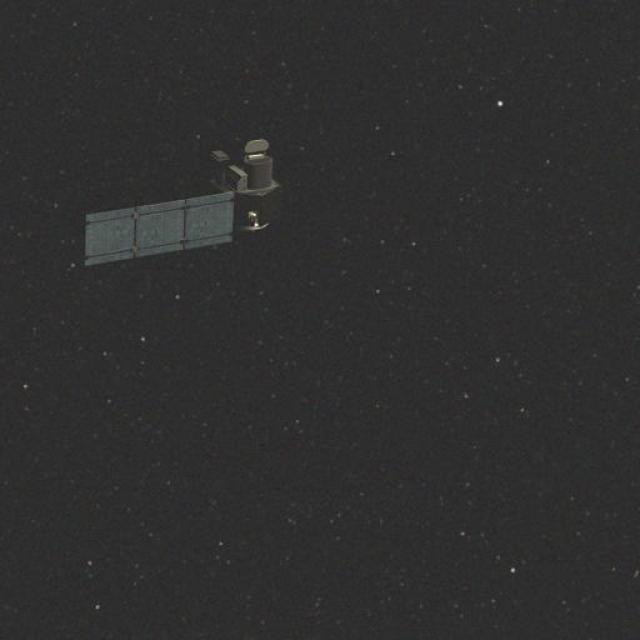earth_observation_sat_1: (153, 125, 294, 280)
